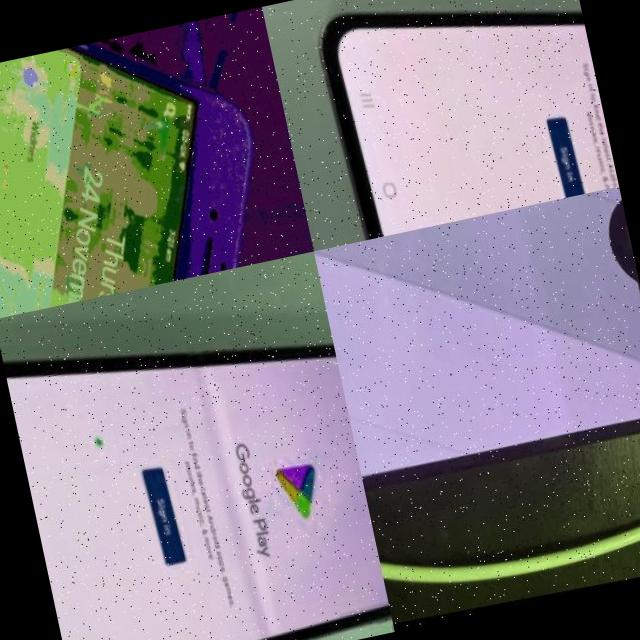dead pixel: (580, 185, 640, 332), (75, 417, 132, 478)
